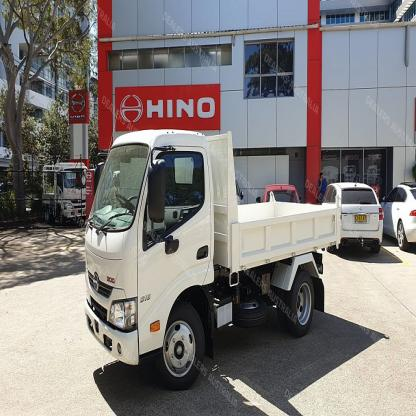dump_truck: (85, 116, 348, 389), (28, 146, 94, 234)
